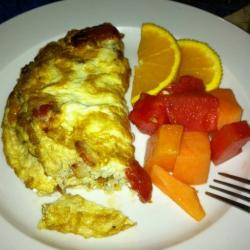omelette: (1, 21, 142, 231)
